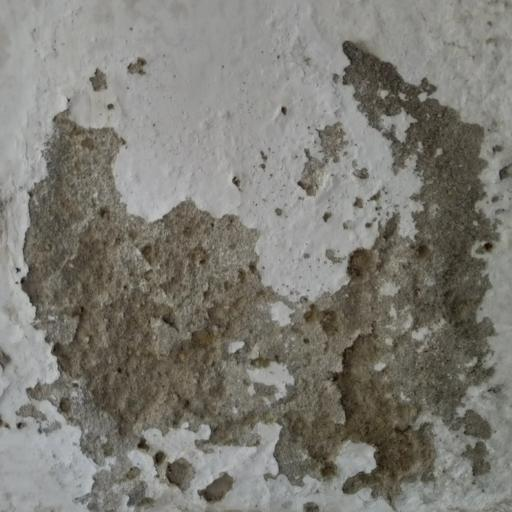peeling: (18, 34, 512, 512)
